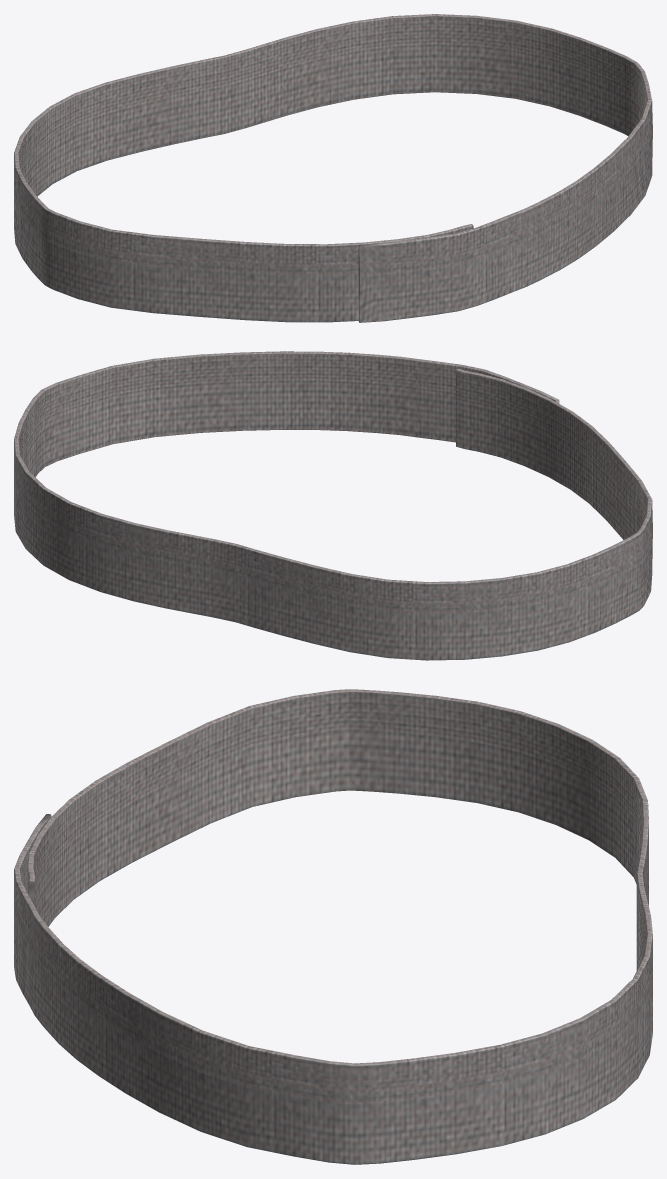
Rendered from 5cm standard_hidden_button.glb.
3 views of the same model, one above another, from view 1: azimuth 30°, elevation 25°; view 2: azimuth 150°, elevation 25°; view 3: azimuth 270°, elevation 25° (orthographic). The views are drawn at different scales.
Parts seen in each view (by area): view 1: standard_hidden_button_5cm; view 2: standard_hidden_button_5cm; view 3: standard_hidden_button_5cm.
Part boxes in pixels (x1,y1,x2,y2): standard_hidden_button_5cm: (14, 14, 652, 322); standard_hidden_button_5cm: (14, 351, 652, 660); standard_hidden_button_5cm: (14, 689, 652, 1164).
Size of the model in its own units: 0.047 by 0.0058 by 0.0336.
Materials: 1 (1 with a texture image).
